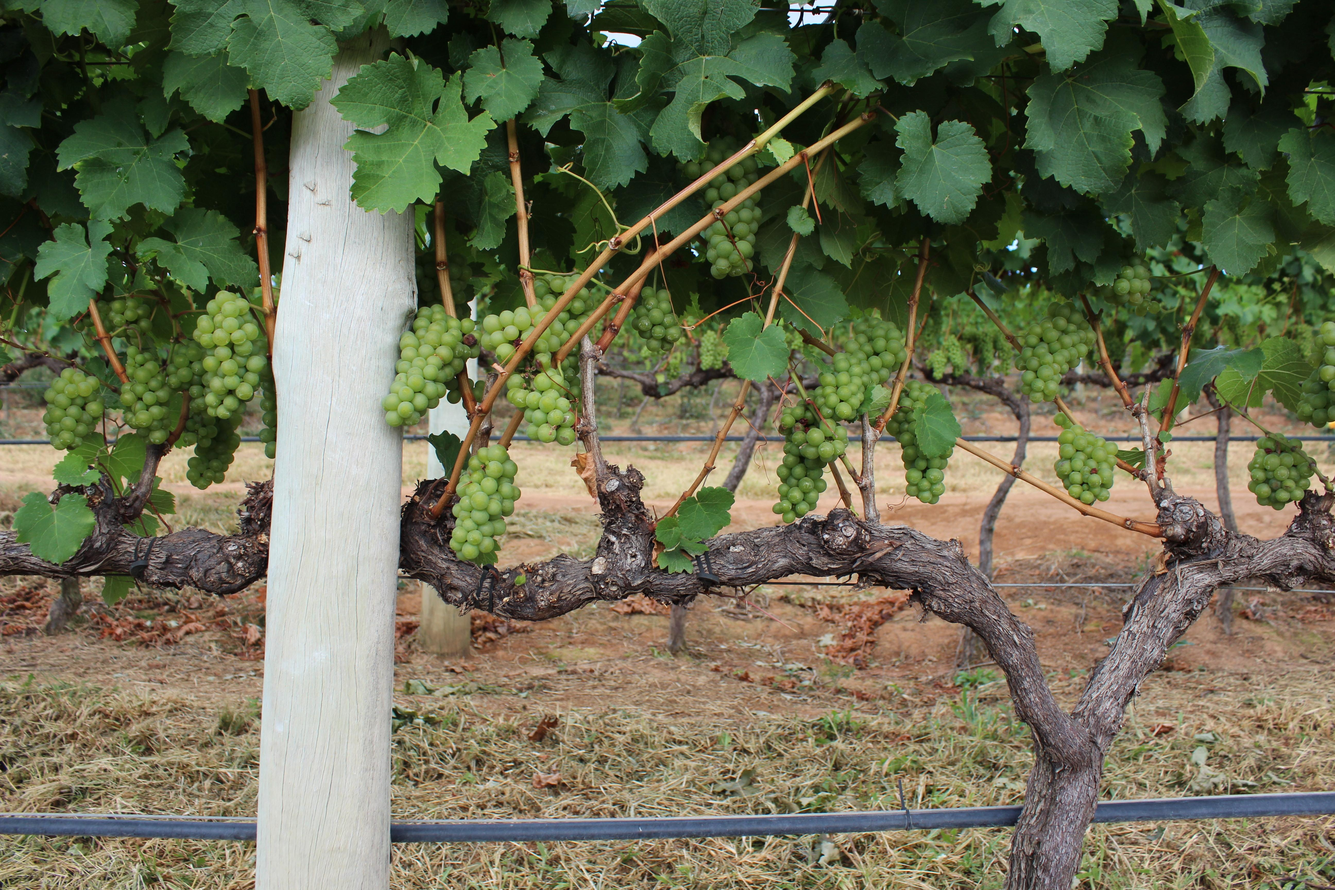leaf: (332, 54, 495, 211), (1025, 39, 1166, 193), (57, 101, 189, 219), (857, 0, 994, 85), (895, 110, 991, 224), (137, 208, 258, 292), (990, 0, 1117, 71), (34, 220, 112, 321), (1215, 337, 1313, 410), (463, 38, 543, 121), (1102, 170, 1181, 251), (162, 51, 247, 122), (13, 492, 96, 564), (1202, 197, 1275, 275), (1278, 129, 1335, 225), (1178, 345, 1264, 405), (780, 263, 848, 336), (41, 0, 138, 49), (723, 312, 789, 382), (812, 39, 881, 97), (469, 172, 516, 250), (913, 392, 961, 458), (678, 487, 734, 541), (487, 0, 551, 38), (383, 0, 448, 37), (53, 451, 100, 486), (427, 431, 461, 472), (102, 575, 134, 605), (786, 204, 815, 236), (655, 516, 682, 550), (657, 549, 693, 573), (979, 0, 997, 5), (664, 542, 666, 546), (844, 84, 848, 85), (850, 86, 851, 89), (660, 538, 661, 540), (836, 41, 837, 42)
